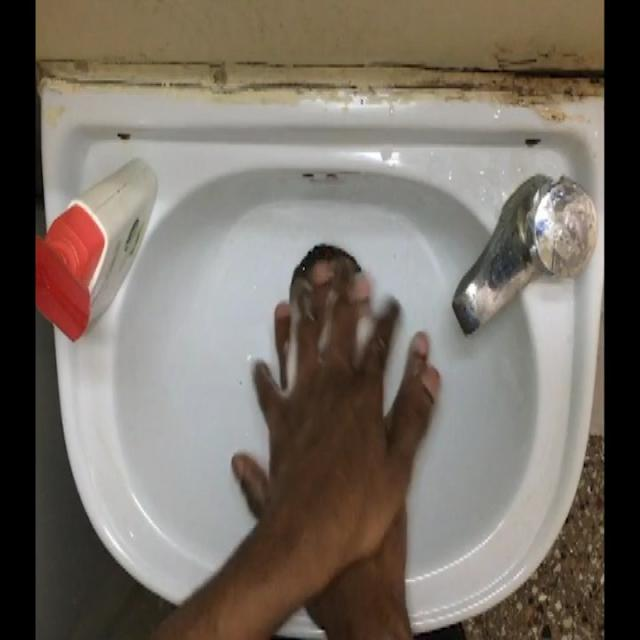step_2: (226, 243, 443, 550)
